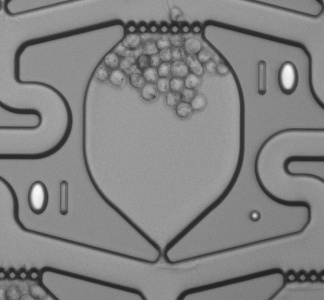AptNum: (243, 55, 305, 100)
Marker: (240, 203, 270, 230)
StNum: (20, 172, 82, 222)
